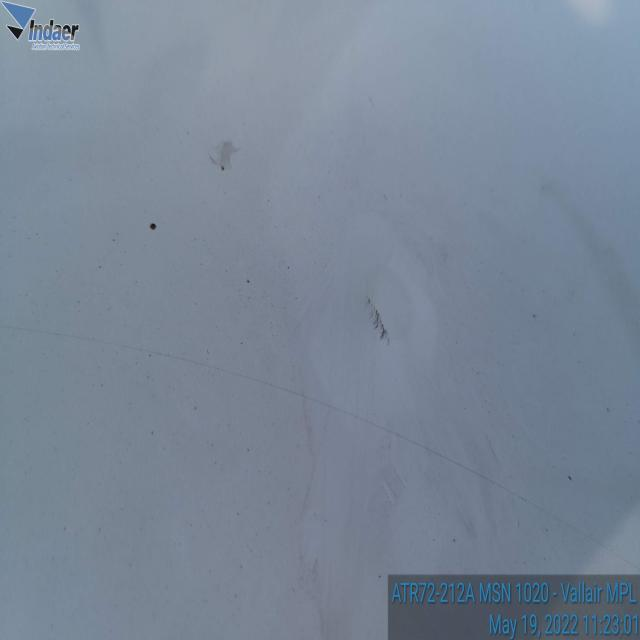dent: (327, 242, 431, 402)
